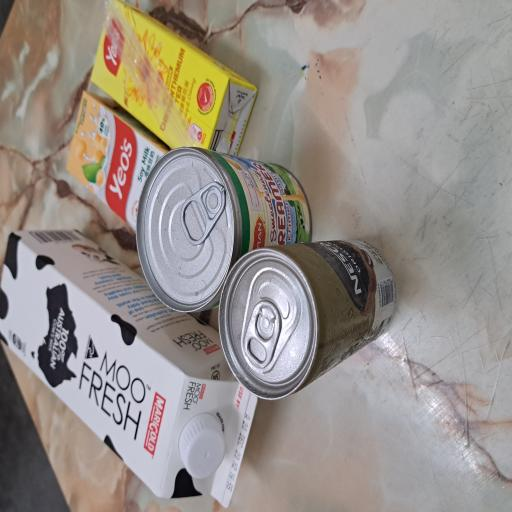can: (152, 181, 273, 419), (84, 291, 205, 512)
drink carton: (2, 0, 214, 345), (264, 119, 383, 342), (213, 86, 316, 227)
pop tab: (200, 241, 249, 302), (106, 325, 160, 374)
